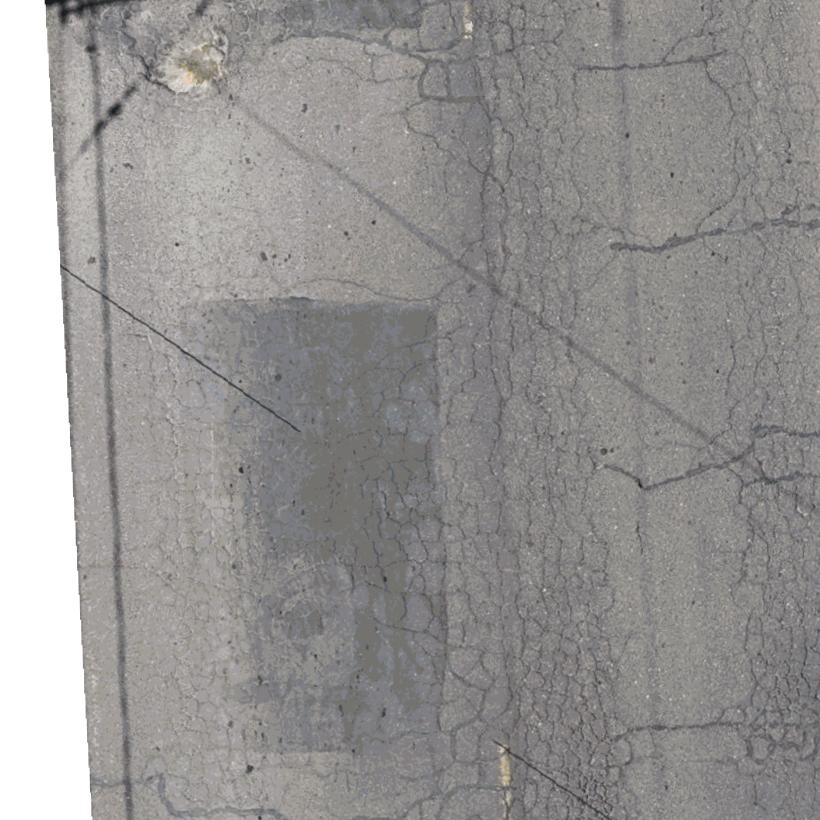BACHE: (123, 0, 226, 91)
GRIETA: (604, 463, 696, 491), (627, 234, 693, 254), (583, 61, 673, 71), (631, 723, 708, 732)
PARCHE: (252, 303, 420, 562)
PIEL DE COCODRILO: (275, 0, 643, 819), (130, 186, 345, 819), (660, 0, 819, 802), (81, 0, 274, 145)
